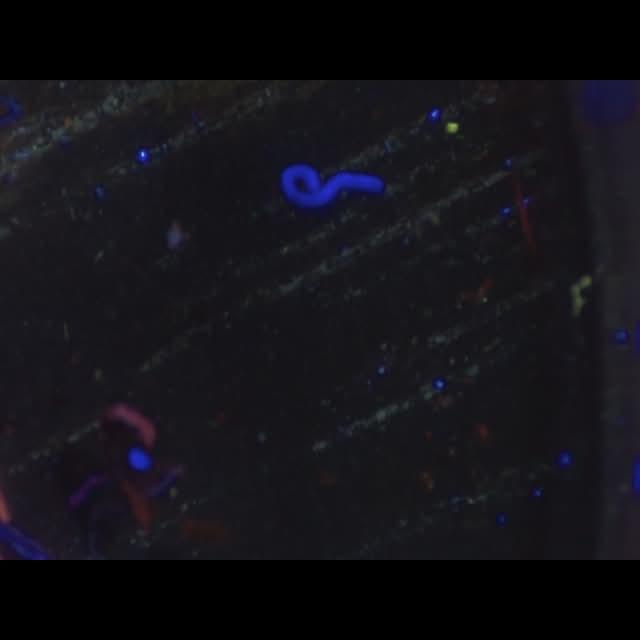Fibre: (570, 274, 592, 318)
microbeads: (446, 120, 460, 134)
